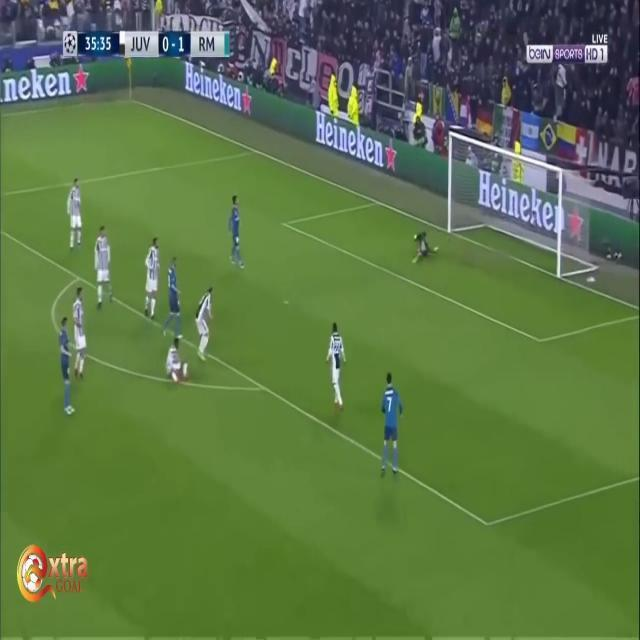goalkeeper: (414, 223, 436, 269)
player: (380, 372, 406, 486), (54, 322, 78, 417), (325, 321, 349, 415), (71, 283, 93, 372), (93, 223, 115, 308), (193, 283, 215, 363), (144, 238, 164, 323), (65, 177, 87, 251), (225, 191, 245, 270), (164, 255, 184, 333), (163, 338, 187, 391)
